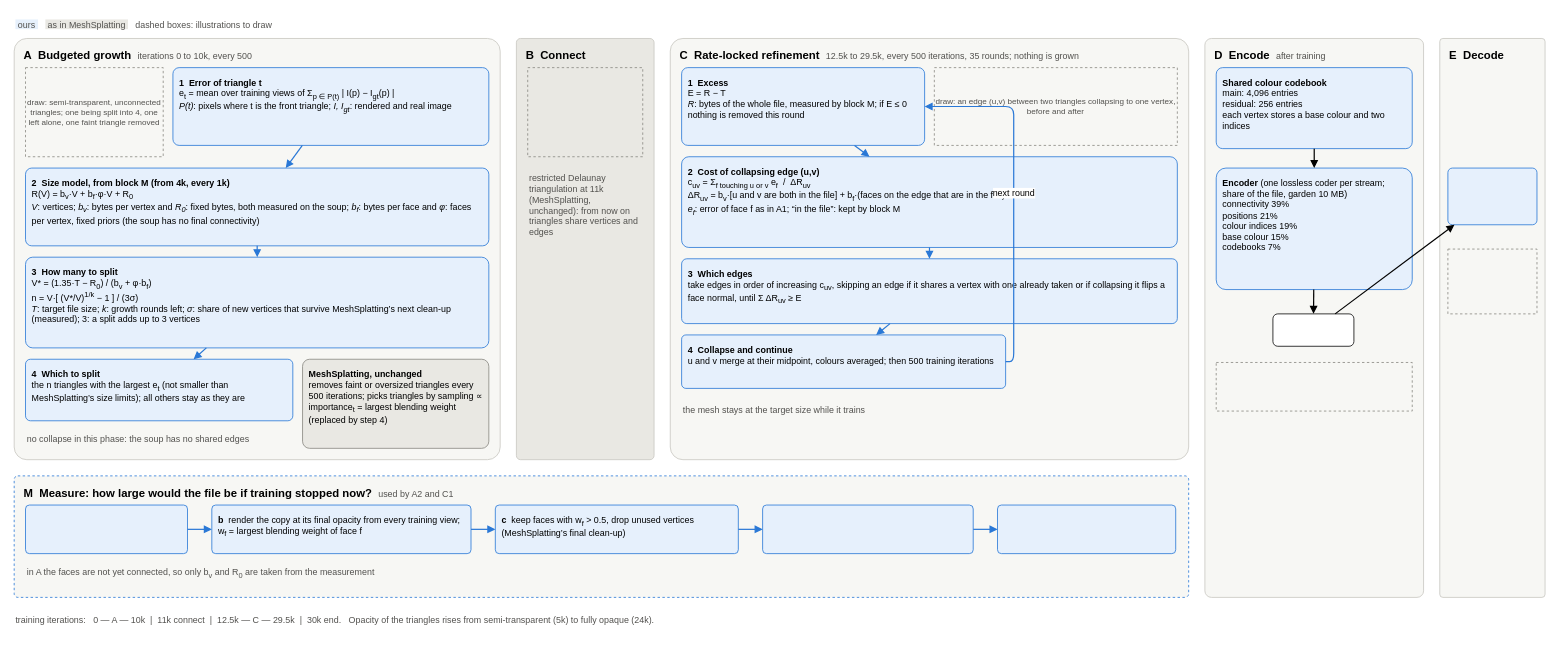
The diagram is 1559 pixels wide and 647 high, and some of its shapes have lost their labels. The shapes that lost their labels are listed below. From the top down, each one's centre as x and y in pixels, then its label:
point 585,112: draw: the same triangles as one connected mesh
point 1492,196: Decoder needs only the file; CPU
point 1492,281: draw: opaque mesh
point 1313,329: one file
point 1313,386: draw the encoder as a trapezoid with four bands whose widths follow the shares
point 106,529: a copy the mesh (training is not touched)
point 867,529: d run the real encoder (the one in D) on what is kept
point 1086,529: R = file size in bytes; also b v , b f , R 0
